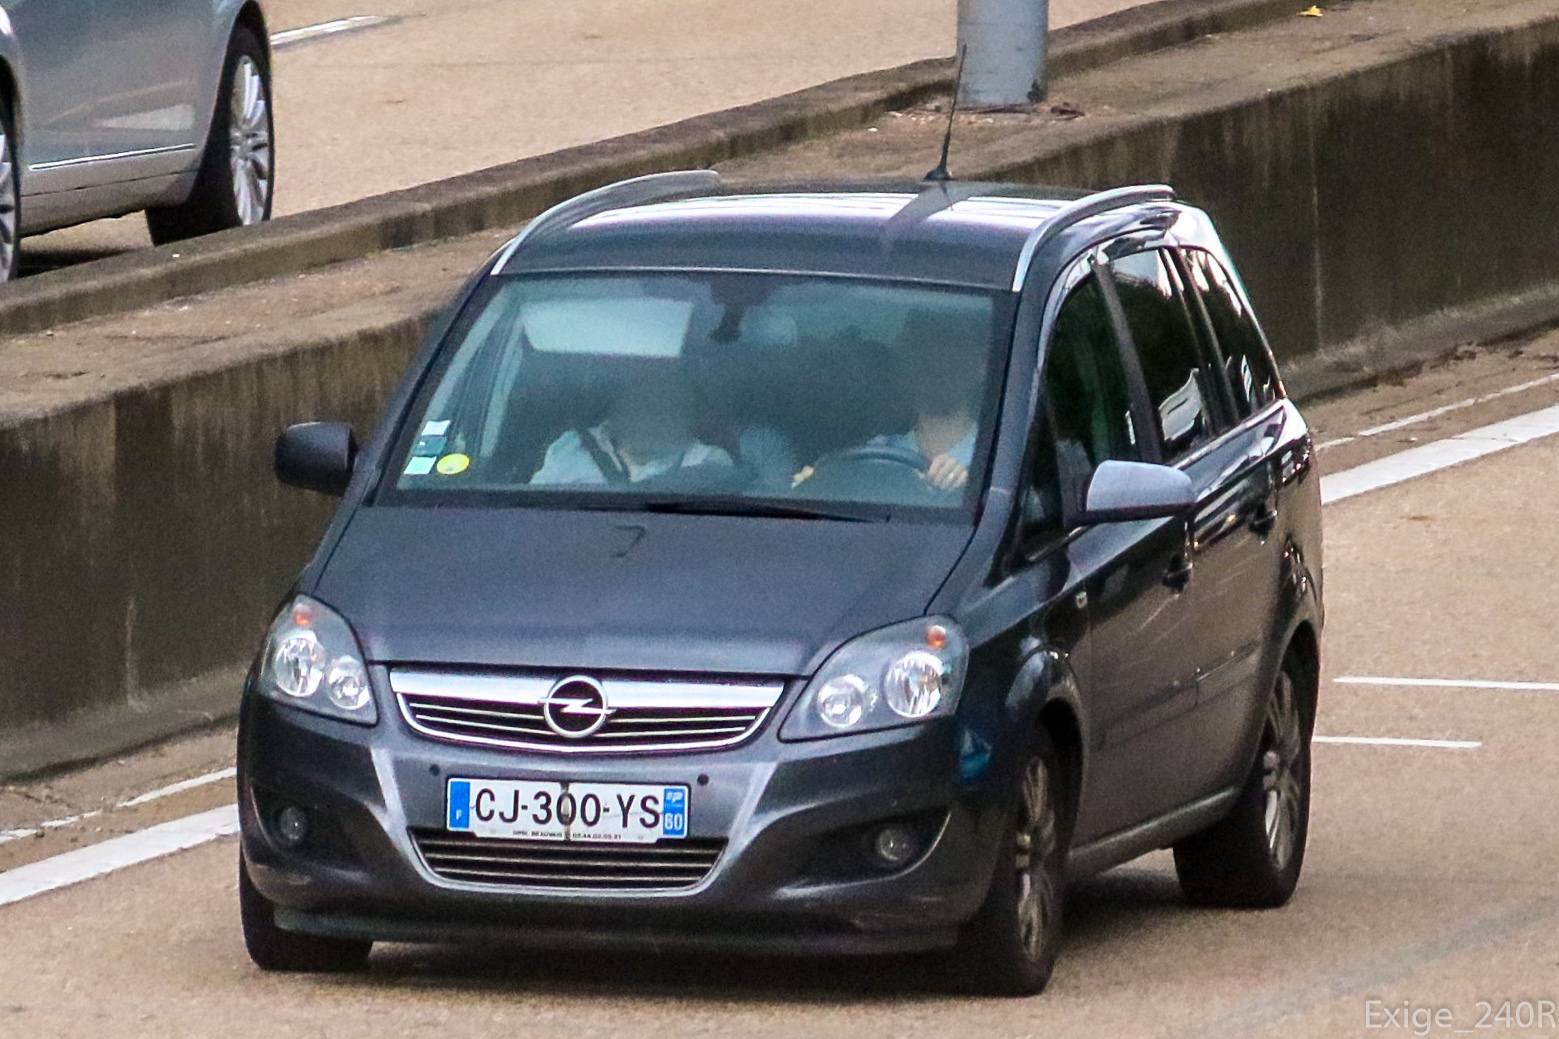licence plate: (444, 770, 692, 846)
